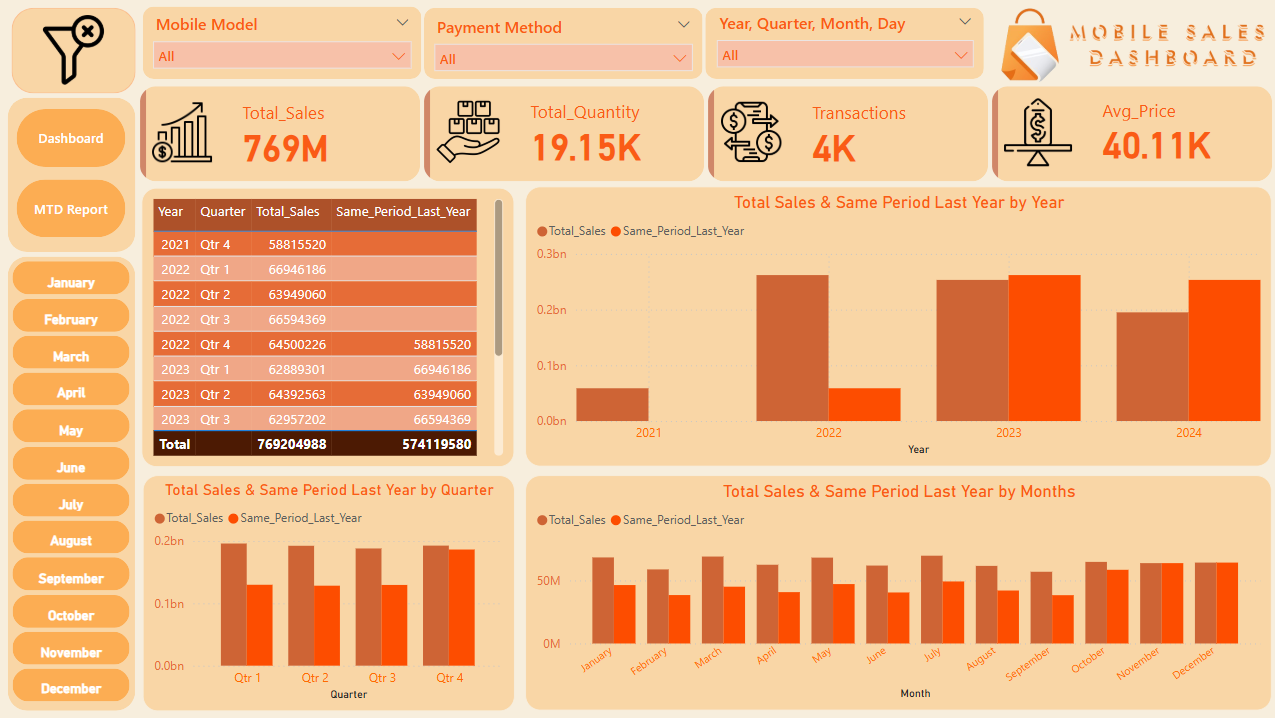

The page's visual inventory and layout, read from the dashboard file:
{"tool":"powerbi","page":{"name":"Same Period Last Year","canvas":[1280,720],"ordinal":2},"visuals":[{"type":"shape","box":[8.3,257.5,127.5,454.2],"z":0},{"type":"shape","box":[143.8,7.5,278.8,72.5],"z":1000},{"type":"image","box":[985,0,93.8,91.2],"z":2000},{"type":"shape","box":[8.4,98.2,127.6,154.3],"z":3000},{"type":"cardVisual","fields":{"Data":["Sales_Data.Total_Sales","Sales_Data.Total_Quantity","Sales_Data.Transactions","Sales_Data.Avg_Price"]},"box":[136.2,82.5,1143.8,105],"z":4000},{"type":"slicer","fields":{"Values":["Sales_Data.Mobile Model"]},"box":[143.8,8.8,278.8,71.2],"z":5000},{"type":"shape","box":[425,8.8,278.8,71.2],"z":6000},{"type":"shape","box":[706.2,8.8,278.8,71.2],"z":7000},{"type":"slicer","fields":{"Values":["Sales_Data.Payment Method"]},"box":[425,11.2,278.8,68.8],"z":8000},{"type":"slicer","fields":{"Values":["Custom_Calendar.Date.Variation.Date Hierarchy.Year","Custom_Calendar.Date.Variation.Date Hierarchy.Quarter","Custom_Calendar.Date.Variation.Date Hierarchy.Month","Custom_Calendar.Date.Variation.Date Hierarchy.Day"]},"box":[707.5,7.5,277.5,72.5],"z":9000},{"type":"image","box":[1065,8.8,207.5,73.8],"z":10000},{"type":"advancedSlicerVisual","fields":{"Values":["Custom_Calendar.Date.Variation.Date Hierarchy.Month"]},"box":[8.3,257.5,127.5,454.2],"z":11000},{"type":"tableEx","title":"Total Sales by Mobile Model","fields":{"Values":["Custom_Calendar.Date.Variation.Date Hierarchy.Year","Custom_Calendar.Date.Variation.Date Hierarchy.Quarter","Sales_Data.Total_Sales","Sales_Data.Same_Period_Last_Year"]},"box":[143,188.3,373.1,278.9],"z":12000},{"type":"clusteredColumnChart","title":"Total Sales & Same Period Last Year by Year","fields":{"Category":["Custom_Calendar.Date.Variation.Date Hierarchy.Year","Custom_Calendar.Date.Variation.Date Hierarchy.Quarter"],"Y":["Sales_Data.Total_Sales","Sales_Data.Same_Period_Last_Year"]},"box":[525.7,187.1,746.2,280.1],"z":13000},{"type":"clusteredColumnChart","title":"Total Sales & Same Period Last Year by Months ","fields":{"Y":["Sales_Data.Total_Sales","Sales_Data.Same_Period_Last_Year"],"Category":["Custom_Calendar.Date.Variation.Date Hierarchy.Year","Custom_Calendar.Date.Variation.Date Hierarchy.Quarter","Custom_Calendar.Date.Variation.Date Hierarchy.Month","Custom_Calendar.Date.Variation.Date Hierarchy.Day"]},"box":[525.7,476.8,746.2,234.8],"z":14000},{"type":"clusteredColumnChart","title":"Total Sales & Same Period Last Year by Quarter","fields":{"Category":["Custom_Calendar.Date.Variation.Date Hierarchy.Year","Custom_Calendar.Date.Variation.Date Hierarchy.Quarter"],"Y":["Sales_Data.Total_Sales","Sales_Data.Same_Period_Last_Year"]},"box":[144.2,476.8,371.9,236],"z":15000},{"type":"pageNavigator","box":[16.9,109.8,109.8,129.1],"z":16000},{"type":"shape","box":[12.1,8.4,124.3,85.7],"z":17000},{"type":"image","box":[30.4,11.6,88.2,79.5],"z":18000}]}

Visuals, with their boxes in screenshot pixels (x1, y1, x2, y2), scaled from the page's 1280x720 canvas onto the 1275x718 screenshot:
shape: (8,257,135,710)
shape: (143,7,421,80)
image: (981,0,1075,91)
shape: (8,98,135,252)
cardVisual - Sales_Data.Total_Sales x Sales_Data.Total_Quantity: (136,82,1274,187)
slicer - Sales_Data.Mobile Model: (143,9,421,80)
shape: (423,9,701,80)
shape: (703,9,981,80)
slicer - Sales_Data.Payment Method: (423,11,701,80)
slicer - Custom_Calendar.Date.Variation.Date Hierarchy.Year x Custom_Calendar.Date.Variation.Date Hierarchy.Quarter: (705,7,981,80)
image: (1061,9,1268,82)
advancedSlicerVisual - Custom_Calendar.Date.Variation.Date Hierarchy.Month: (8,257,135,710)
"Total Sales by Mobile Model" tableEx: (142,188,514,466)
"Total Sales & Same Period Last Year by Year" clusteredColumnChart: (524,187,1267,466)
"Total Sales & Same Period Last Year by Months " clusteredColumnChart: (524,475,1267,710)
"Total Sales & Same Period Last Year by Quarter" clusteredColumnChart: (144,475,514,711)
pageNavigator: (17,109,126,238)
shape: (12,8,136,94)
image: (30,12,118,91)
